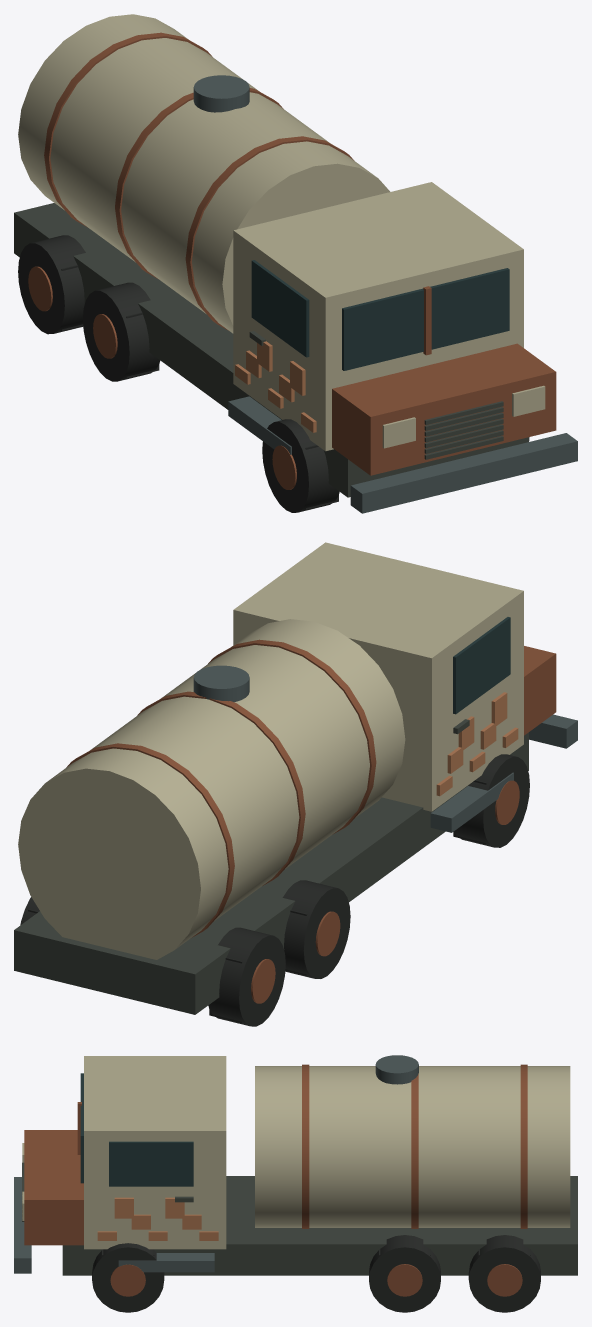
Rendered from FSA_ENV_Outdoor_Truck_02_Tanker.glb.
The picture shows the model from 3 angles, top to bottom: view 1: azimuth 30°, elevation 25°; view 2: azimuth 150°, elevation 25°; view 3: azimuth 270°, elevation 25°; orthographic projection. The views are drawn at different scales.
Visible parts, largest first — view 1: TankShell, Cab, Hood, Frame, Windshield, Bumper, Wheel_-1_-1_1, Wheel_-1_-2_4, Wheel_-1_2_5, SideWindow_-1, TankBand_2, TankBand_0 (+8 smaller); view 2: TankShell, Cab, Frame, Wheel_-1_-2_4, Wheel_-1_-1_1, SideWindow_-1, Wheel_-1_2_5, Hood, Step_-1, TankBand_2, TankBand_0, TankBand_1 (+5 smaller); view 3: TankShell, Cab, Frame, Hood, SideWindow_1, Wheel_1_-2_4, Wheel_1_-1_1, Wheel_1_2_5, Step_1, TankBand_0, TankBand_2, TankBand_1 (+8 smaller).
Part boxes in pixels (x1,y1,x2,y2): TankShell: (18,14,390,333); Cab: (233,182,523,451); Hood: (332,343,556,475); Frame: (14,203,528,497); Windshield: (342,268,509,370); Bumper: (350,433,577,513); Wheel_-1_-1_1: (83,282,160,381); Wheel_-1_-2_4: (18,235,85,334); Wheel_-1_2_5: (262,419,339,512); SideWindow_-1: (251,260,309,357); TankBand_2: (185,136,354,330); TankBand_0: (44,32,212,227); TankShell: (18,619,405,959); Cab: (233,542,523,811); Frame: (14,732,528,1014); Wheel_-1_-2_4: (208,927,285,1026); Wheel_-1_-1_1: (282,880,350,978); SideWindow_-1: (453,617,510,714); Wheel_-1_2_5: (454,754,529,847); Hood: (524,646,556,735); Step_-1: (430,772,513,832); TankBand_2: (208,639,376,834); TankBand_0: (66,743,234,937); TankBand_1: (137,691,305,885); TankShell: (255,1066,570,1227); Cab: (84,1056,226,1249); Frame: (62,1176,577,1275); Hood: (24,1130,83,1245); SideWindow_1: (109,1141,193,1186); Wheel_1_-2_4: (468,1235,540,1312); Wheel_1_-1_1: (369,1235,440,1312); Wheel_1_2_5: (92,1243,164,1312); Step_1: (118,1253,214,1272); TankBand_0: (520,1064,527,1228); TankBand_2: (302,1064,309,1228); TankBand_1: (411,1073,418,1228).
Size of the model in its own units: 2.6 by 2.97 by 7.33.
